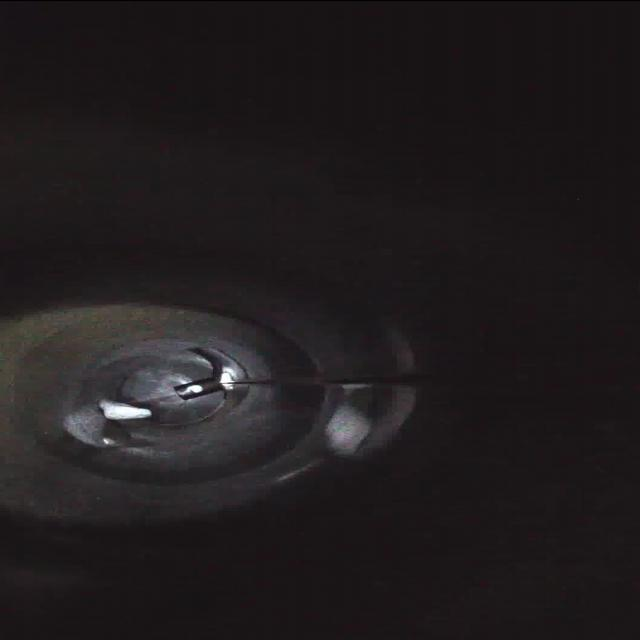impurity: (89, 394, 155, 424)
